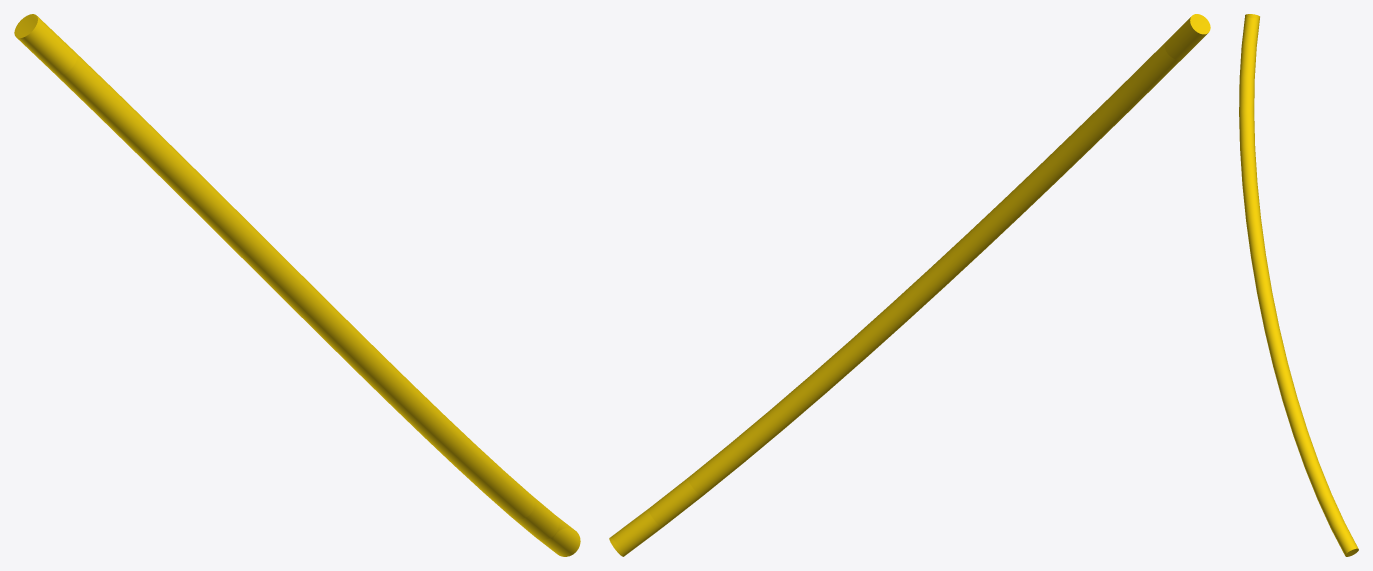
Rendered from Event_420107950_track_34.fbx.
3 views of the same model, side by side, from view 1: azimuth 30°, elevation 25°; view 2: azimuth 150°, elevation 25°; view 3: azimuth 270°, elevation 25° (orthographic). The views are drawn at different scales.
Parts seen in each view (by area): view 1: Model; view 2: Model; view 3: Model.
Part boxes in pixels (left/top/right/bottom): Model: left=14, top=14, right=580, bottom=556; Model: left=609, top=14, right=1210, bottom=556; Model: left=1239, top=14, right=1358, bottom=556.
Bounding box in the file's own units: 1.01 × 1.12 × 0.3138.
